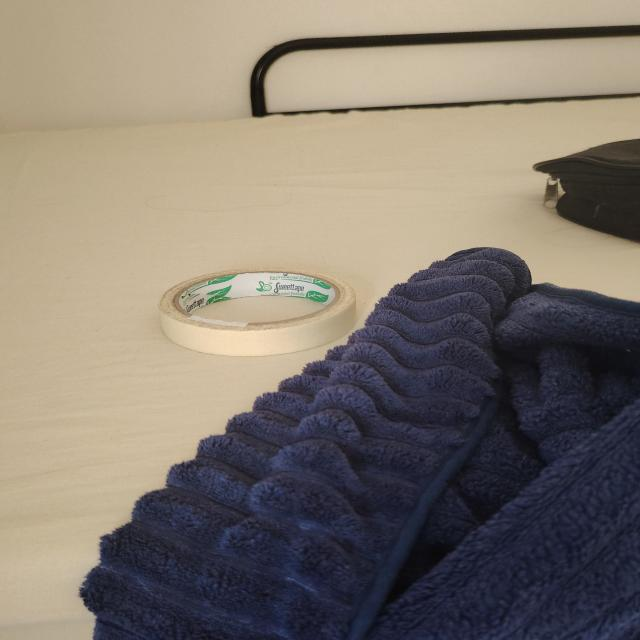tape: (159, 269, 356, 356)
